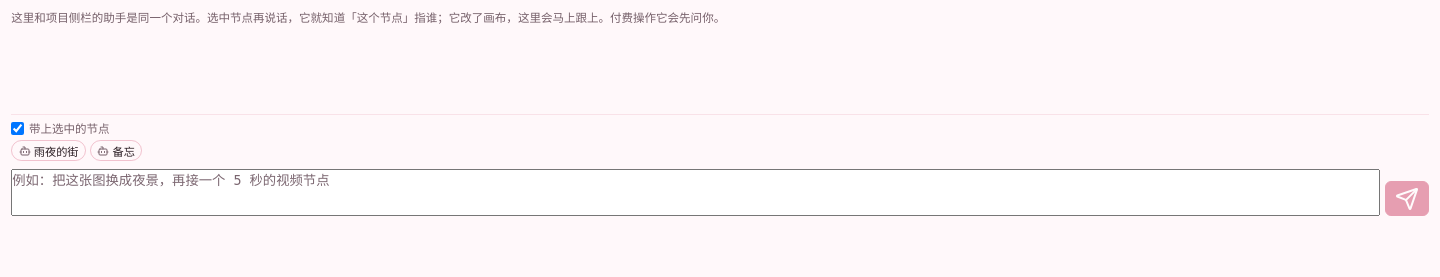
Test case: the assistant inside the canvas › leaves this board alone when the assistant wrote another one
The width and height of the screenshot is (1440, 277).
In the text box named "对助手说": (695, 193) x1=11 y1=169 x2=1380 y2=216, type "改第二张画布"
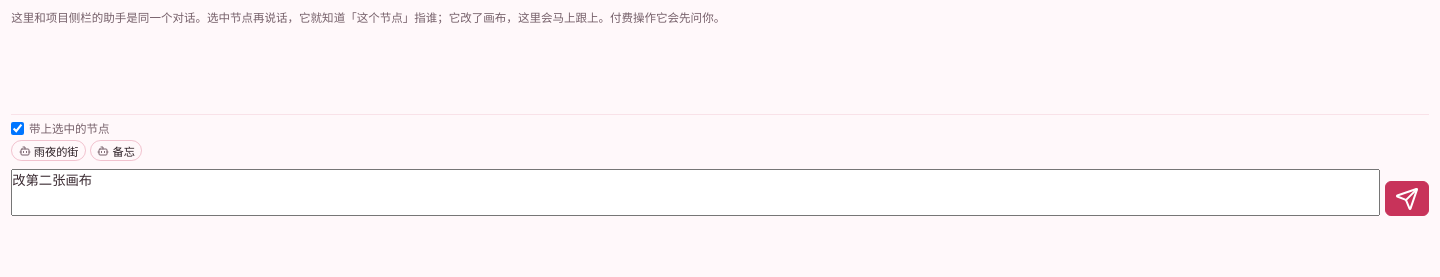
Click the button named "发给助手": (1407, 199) x1=1385 y1=181 x2=1429 y2=216
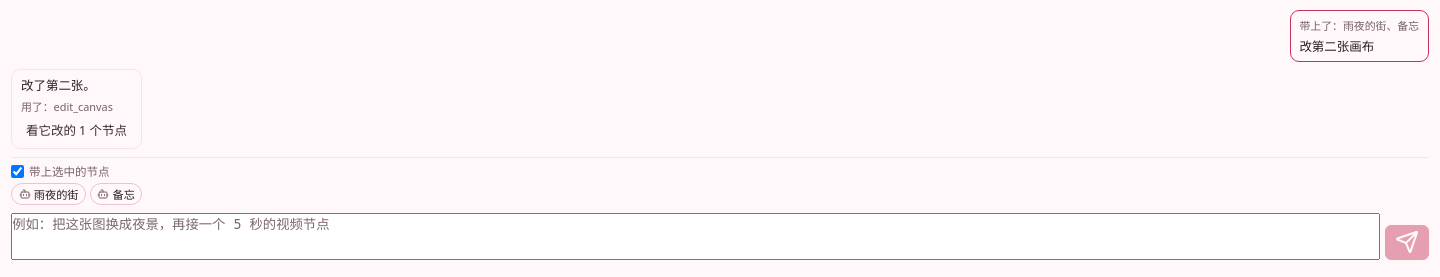
Expected: the text "改了第二张。" is shown, x1=21 y1=77 x2=96 y2=94
